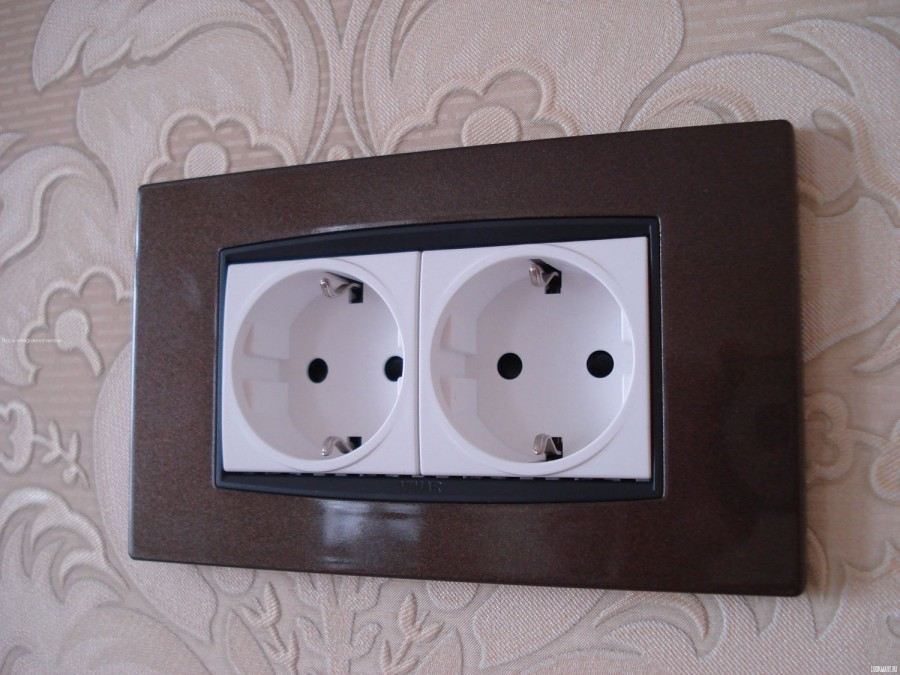raccoon: (428, 253, 639, 470), (227, 267, 408, 454)
